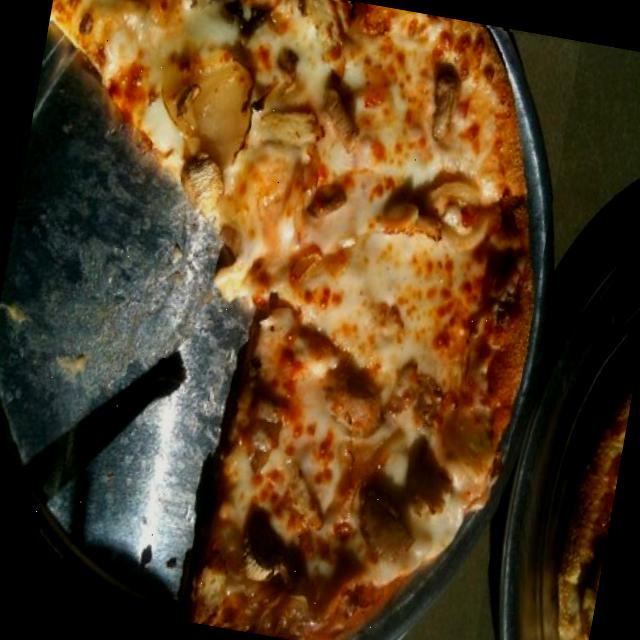pizza: (50, 0, 529, 640), (555, 361, 637, 640)
